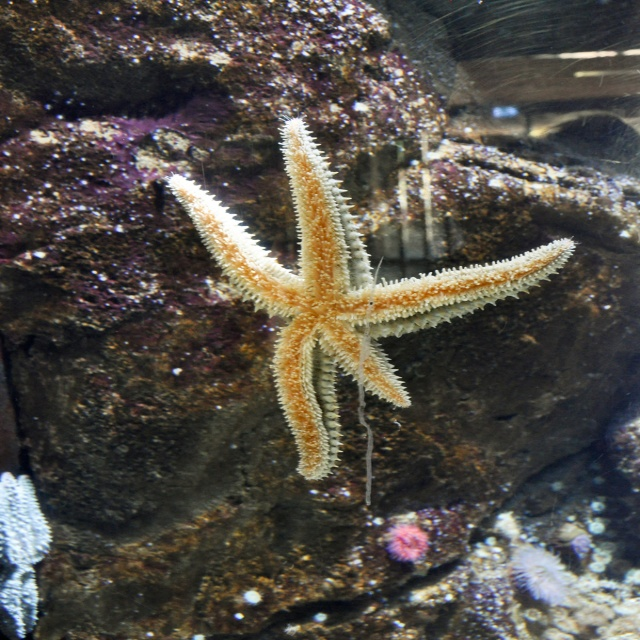Starfish: (162, 113, 578, 483)
